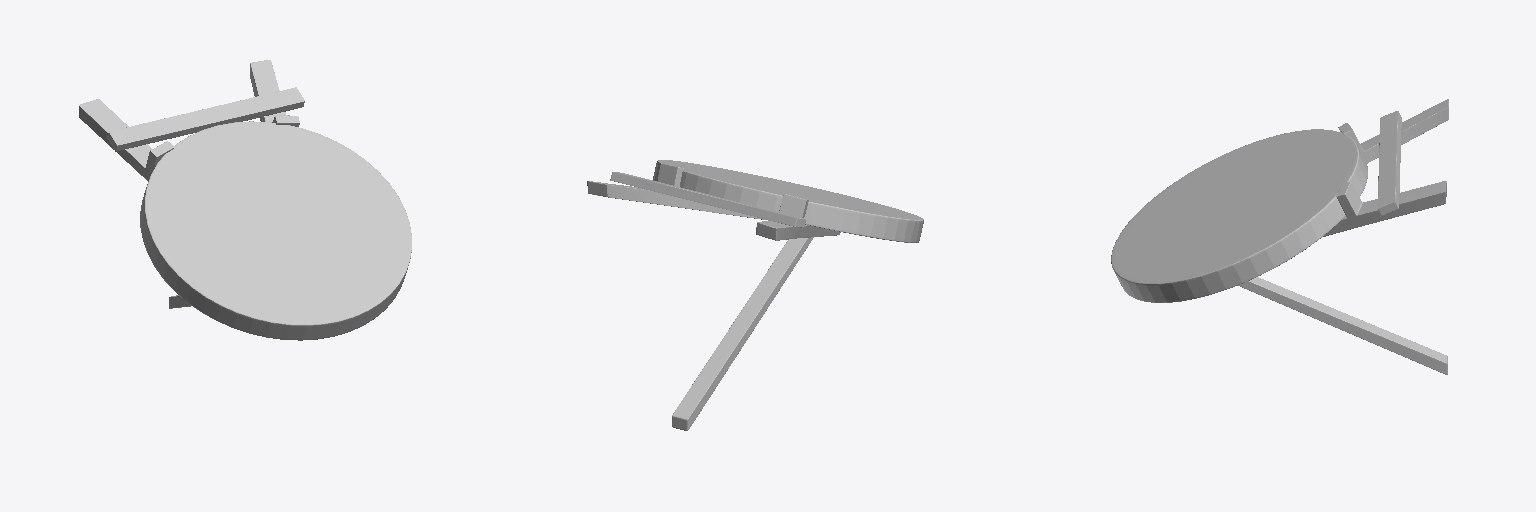
Rendered from archery.obj.
3 renders of one model, left to right at view 1: azimuth 30°, elevation 25°; view 2: azimuth 150°, elevation 25°; view 3: azimuth 270°, elevation 25°, orthographic.
Visible parts, largest first — view 1: archery; view 2: archery; view 3: archery.
Boxes of the visible parts, box(x1,y1,x2,y2) form: archery: box(79, 60, 411, 340); archery: box(587, 160, 923, 430); archery: box(1111, 99, 1448, 374).
Bounding box in the file's own units: 3.86 × 3.52 × 4.77.